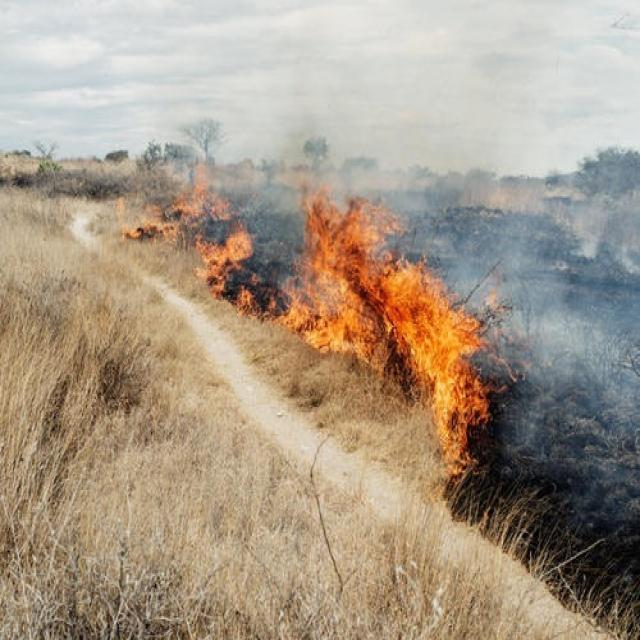Fire: (275, 182, 498, 477), (119, 161, 254, 311)
Smoke: (243, 109, 640, 466)
